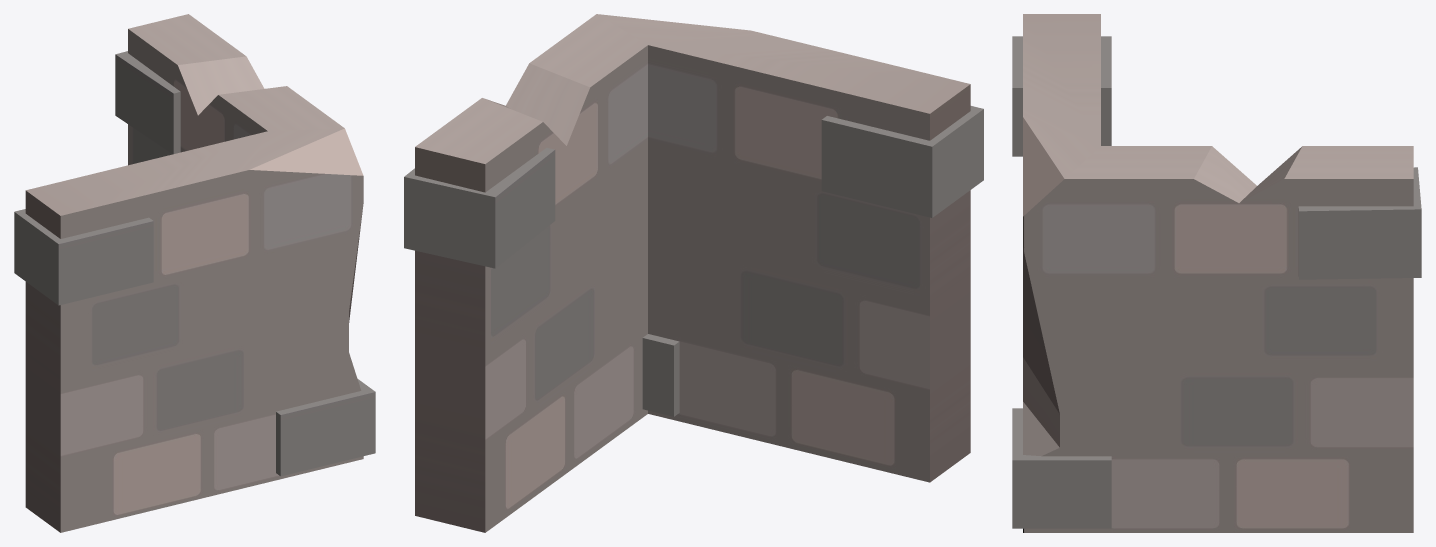
File: SM_SmallWall_08.fbx
The picture shows the model from 3 angles, left to right: view 1: azimuth 30°, elevation 25°; view 2: azimuth 150°, elevation 25°; view 3: azimuth 270°, elevation 25°; orthographic projection. The views are drawn at different scales.
Visible parts, largest first — view 1: SM_SmallWall_08; view 2: SM_SmallWall_08; view 3: SM_SmallWall_08.
Part boxes in pixels (x1,y1,x2,y2): SM_SmallWall_08: (14,14,375,532); SM_SmallWall_08: (404,14,983,532); SM_SmallWall_08: (1012,14,1421,532).
Bounding box in the file's own units: 1.05 × 1 × 1.05.
